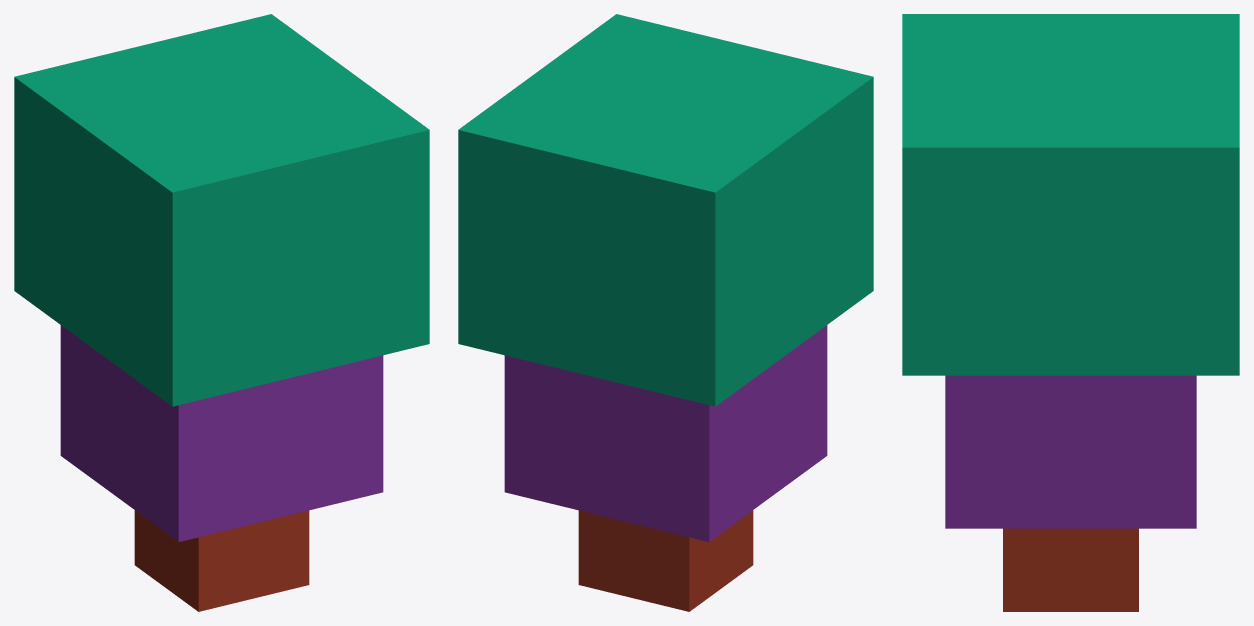
File: boxstack.obj
The picture shows the model from 3 angles, left to right: view 1: azimuth 30°, elevation 25°; view 2: azimuth 150°, elevation 25°; view 3: azimuth 270°, elevation 25°; orthographic projection. The views are drawn at different scales.
Bounding box in the file's own units: 0.7157 × 1.25 × 0.7628.
